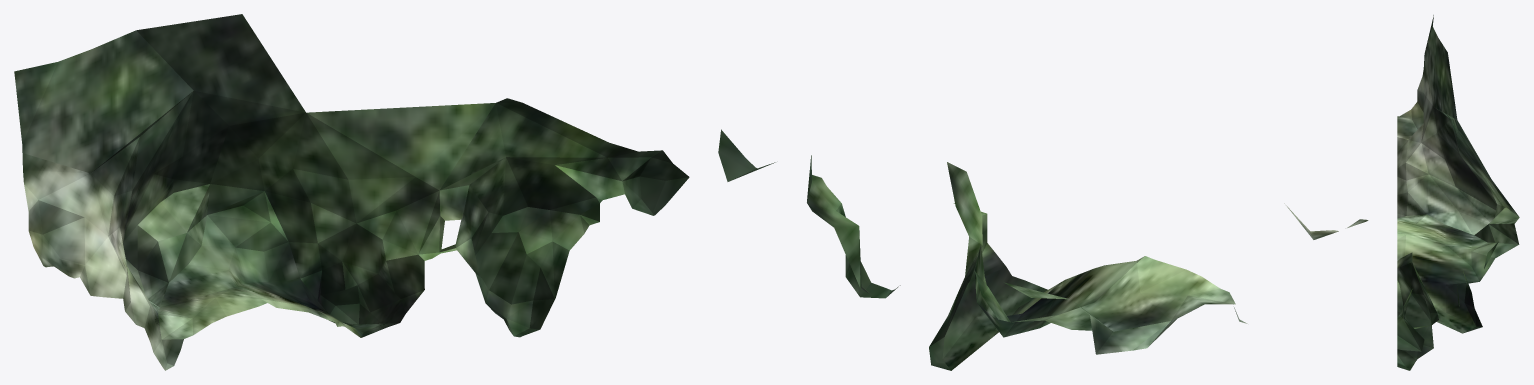
The picture shows the model from 3 angles, left to right: view 1: azimuth 30°, elevation 25°; view 2: azimuth 150°, elevation 25°; view 3: azimuth 270°, elevation 25°; orthographic projection. The views are drawn at different scales.
Bounding box in the file's own units: 17.49 × 9.41 × 4.88.
Materials: 1 (1 with a texture image).
